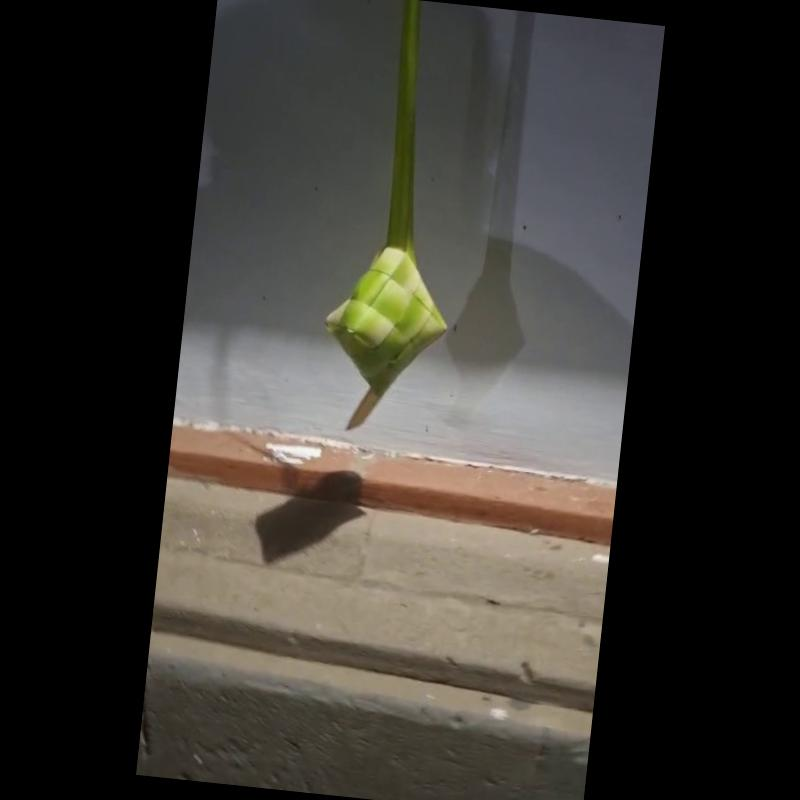Tipat Nasi: (319, 236, 453, 424)
